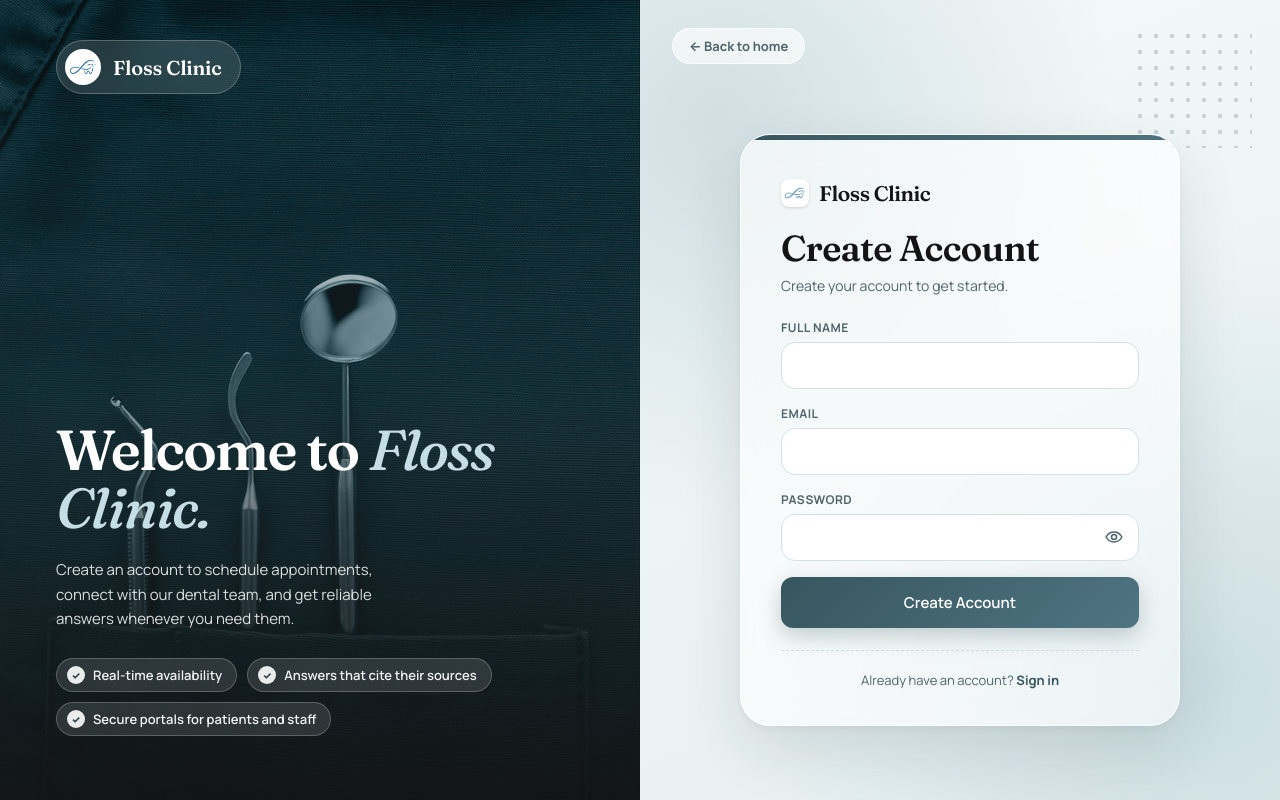
Test: RegisterPage › on failure, shows the server error message instead of navigating
This screenshot has width=1280, height=800.
Step 1. Type "Jordan Ellis" into the field labelled "Full name" → (960, 366), box [781,342,1139,389]
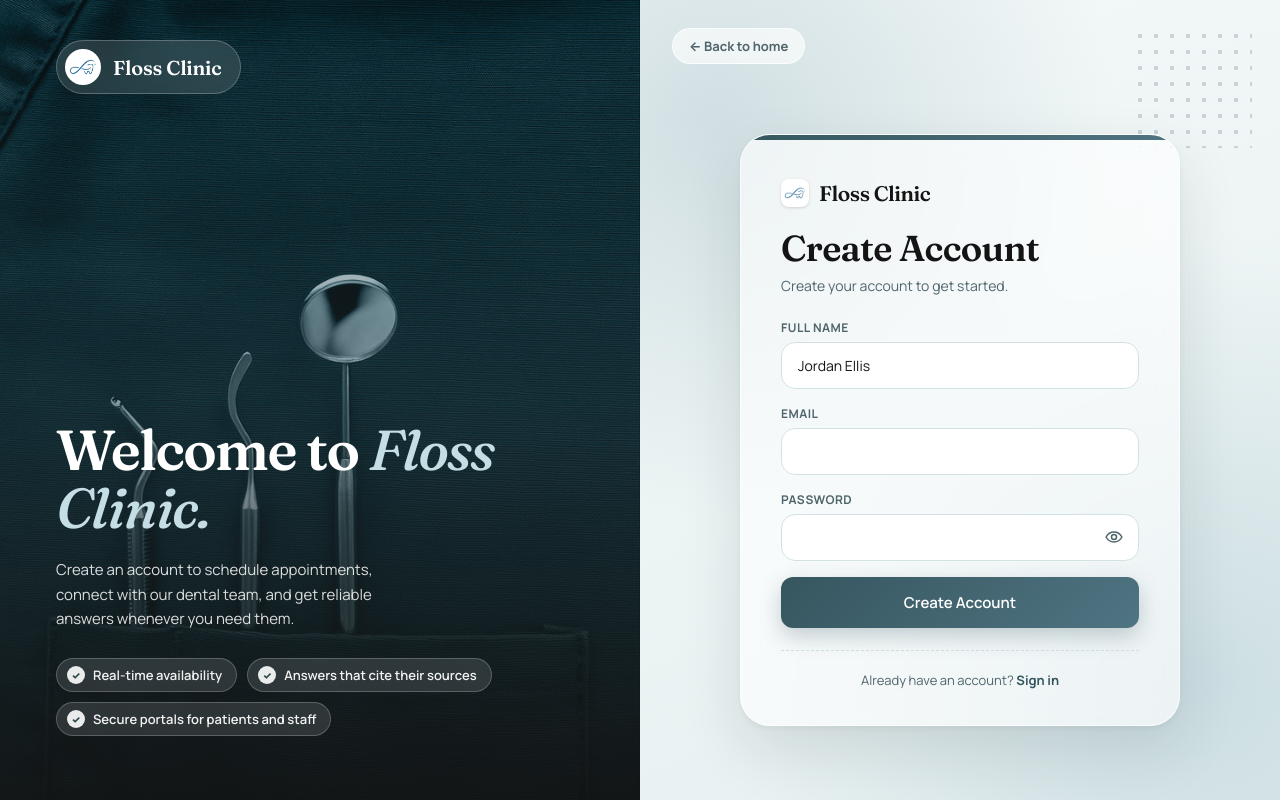
Step 2. Type "jordan@example.com" into the field labelled "Email" → (960, 452), box [781,428,1139,475]
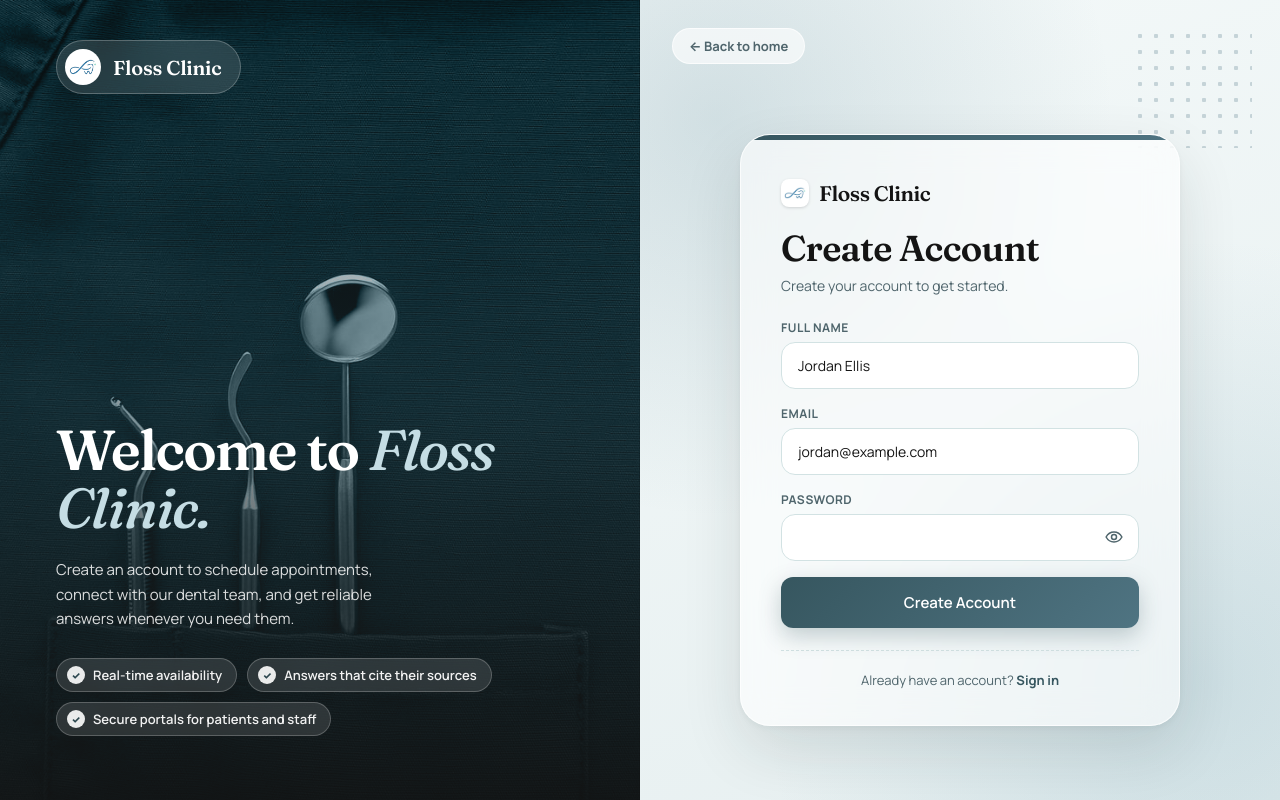
Step 3. Type "password123" into the password field labelled "Password" → (960, 538), box [781,514,1139,561]
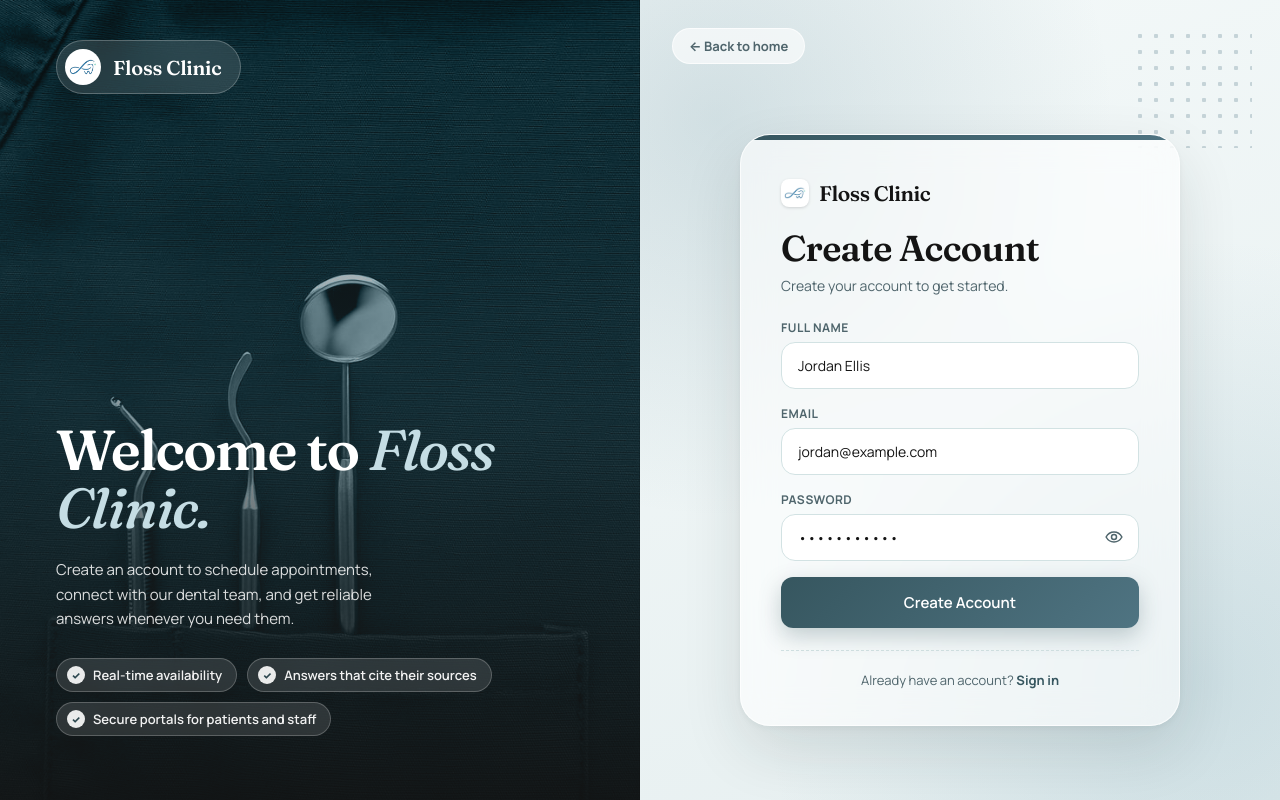
Step 4. Click the button "Create Account" → click(960, 602), box [781,577,1139,628]
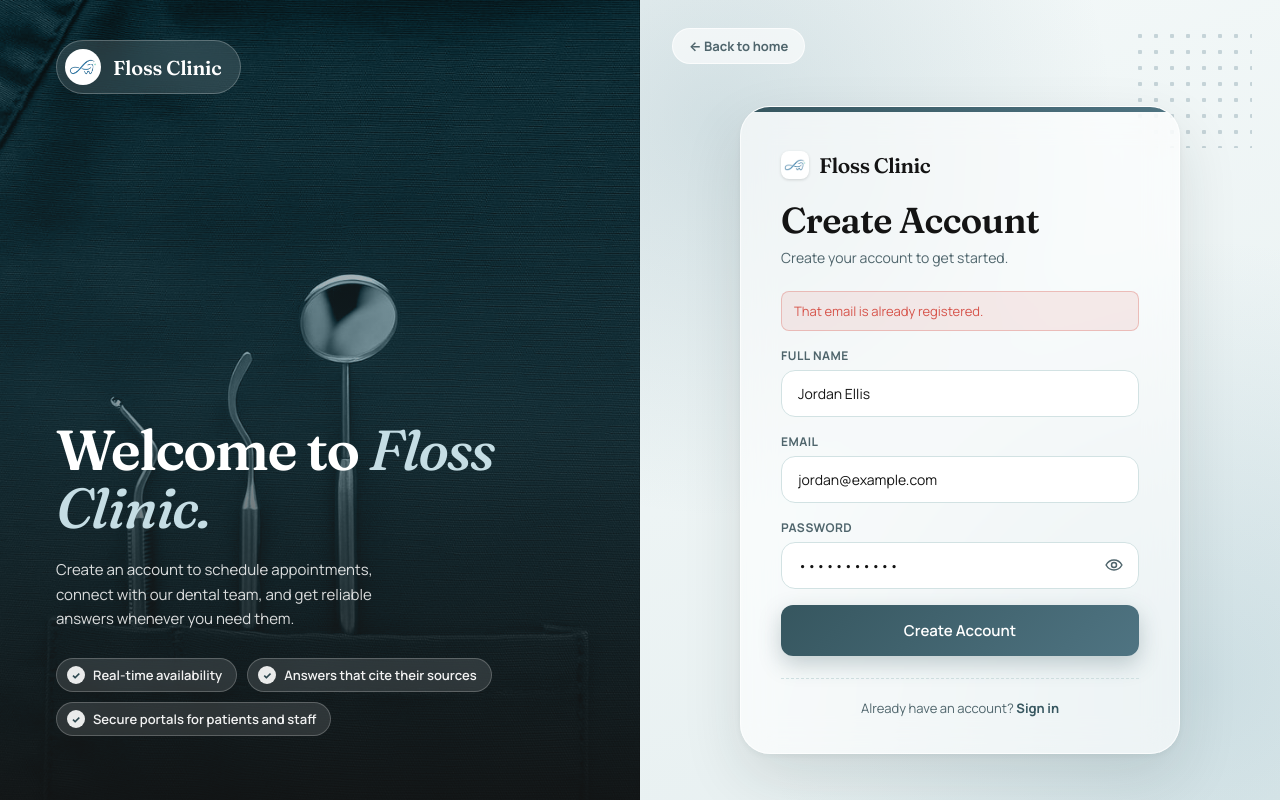
expect the text "That email is already registered." is shown: met, box [781,291,1139,331]
